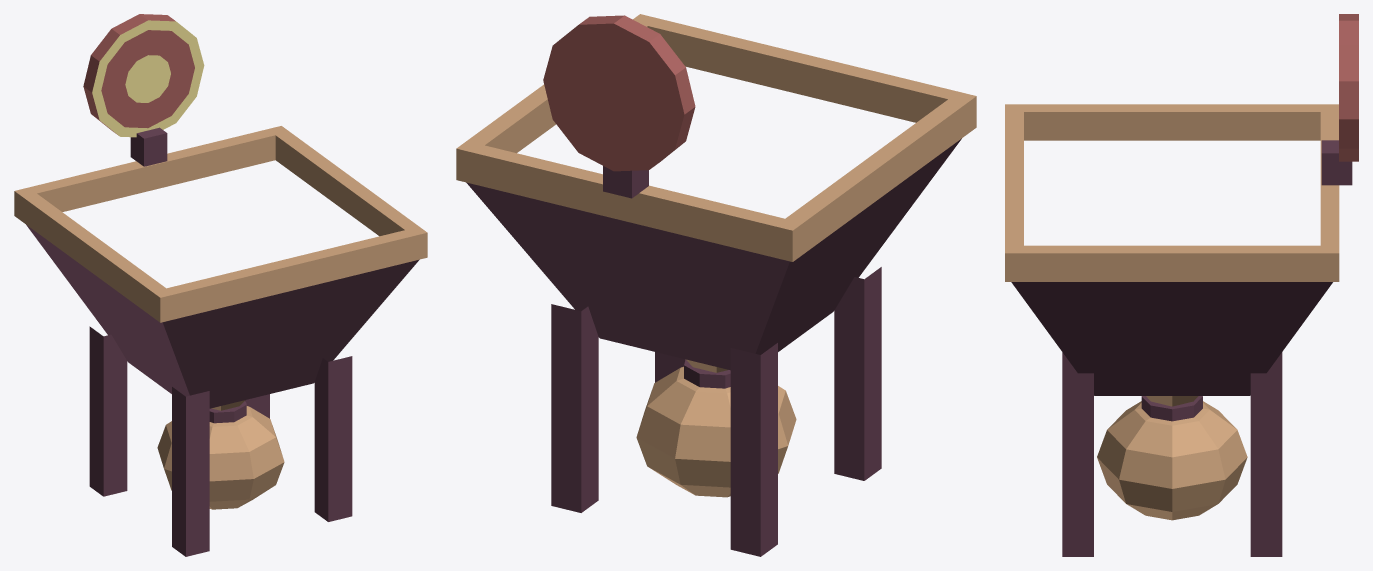
Rendered from chute.glb.
The picture shows the model from 3 angles, left to right: view 1: azimuth 30°, elevation 25°; view 2: azimuth 150°, elevation 25°; view 3: azimuth 270°, elevation 25°; orthographic projection. The views are drawn at different scales.
Parts seen in each view (by area): view 1: Hopper, Disc, RimF, RimB, Sack, Leg1, Leg0, Leg2, RimL, RimR, Post, Tie; view 2: Hopper, Disc, RimB, RimF, Sack, Leg2, Leg3, Leg0, RimL, RimR, Post, Tie; view 3: Hopper, Sack, RimL, RimR, Leg3, Leg1, RimF, Disc, RimB, Post, Tie.
Boxes of the visible parts, <box> form: Hopper: <box>26,224,419,408</box>; Disc: <box>83,14,204,137</box>; RimF: <box>152,226,427,322</box>; RimB: <box>14,126,289,221</box>; Sack: <box>157,406,284,509</box>; Leg1: <box>314,356,352,521</box>; Leg0: <box>172,387,209,556</box>; Leg2: <box>89,326,127,496</box>; RimL: <box>22,193,165,316</box>; RimR: <box>275,132,418,236</box>; Post: <box>130,127,167,166</box>; Tie: <box>209,400,246,423</box>; Hopper: <box>466,138,961,370</box>; Disc: <box>543,15,695,171</box>; RimB: <box>456,141,802,261</box>; RimF: <box>633,14,976,134</box>; Sack: <box>636,366,796,497</box>; Leg2: <box>730,343,777,556</box>; Leg3: <box>551,304,598,512</box>; Leg0: <box>834,267,881,480</box>; RimL: <box>785,99,966,254</box>; RimR: <box>467,25,647,153</box>; Post: <box>603,166,648,198</box>; Tie: <box>684,360,730,388</box>; Hopper: <box>1011,282,1332,395</box>; Sack: <box>1097,401,1247,520</box>; RimL: <box>1024,104,1320,140</box>; RimR: <box>1024,245,1320,281</box>; Leg3: <box>1250,373,1282,556</box>; Leg1: <box>1062,373,1093,556</box>; RimF: <box>1005,104,1023,281</box>; Disc: <box>1339,14,1358,161</box>; RimB: <box>1320,104,1339,281</box>; Post: <box>1321,140,1352,185</box>; Tie: <box>1141,396,1202,421</box>.
Size of the model in its own units: 1.5 by 2.3 by 1.5.
